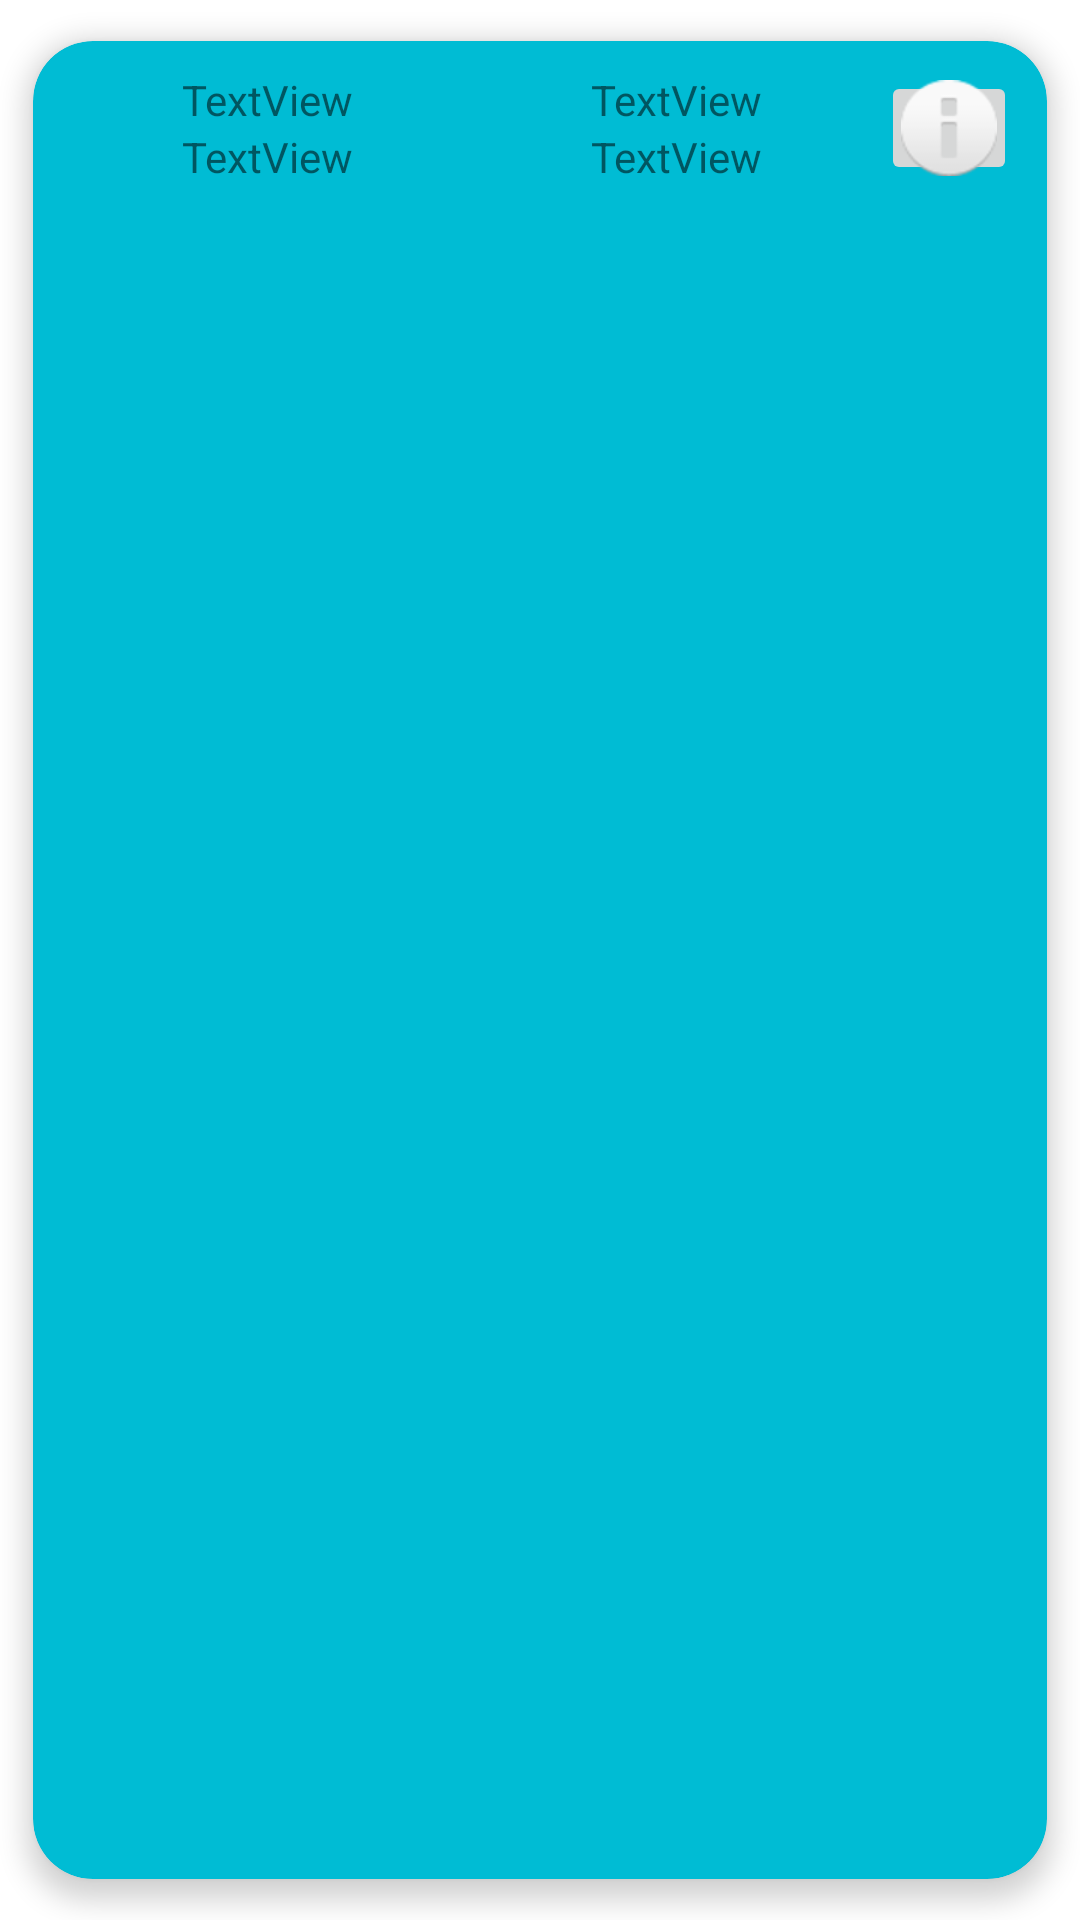

Point at icon controls on the screen. Image size 1080px x 1920px, points as point (x, y).
info: point (949, 128)
